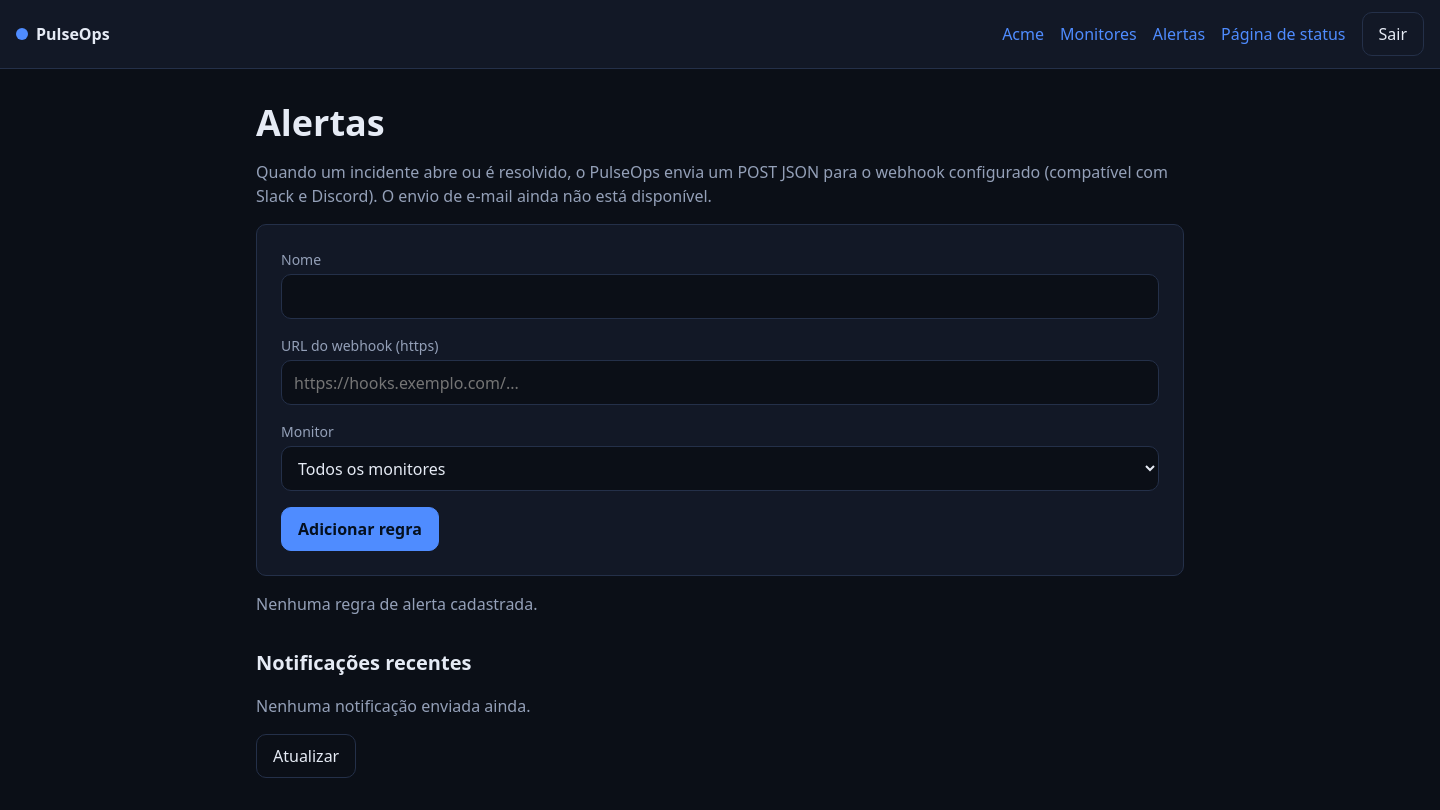
it: páginas de alertas e status › AlertsPage › mostra o segredo de assinatura uma única vez após criar a regra
Type "Slack time" into the field labelled "Nome".
click(720, 296); type("Slack time")  # box [281,274,1159,319]
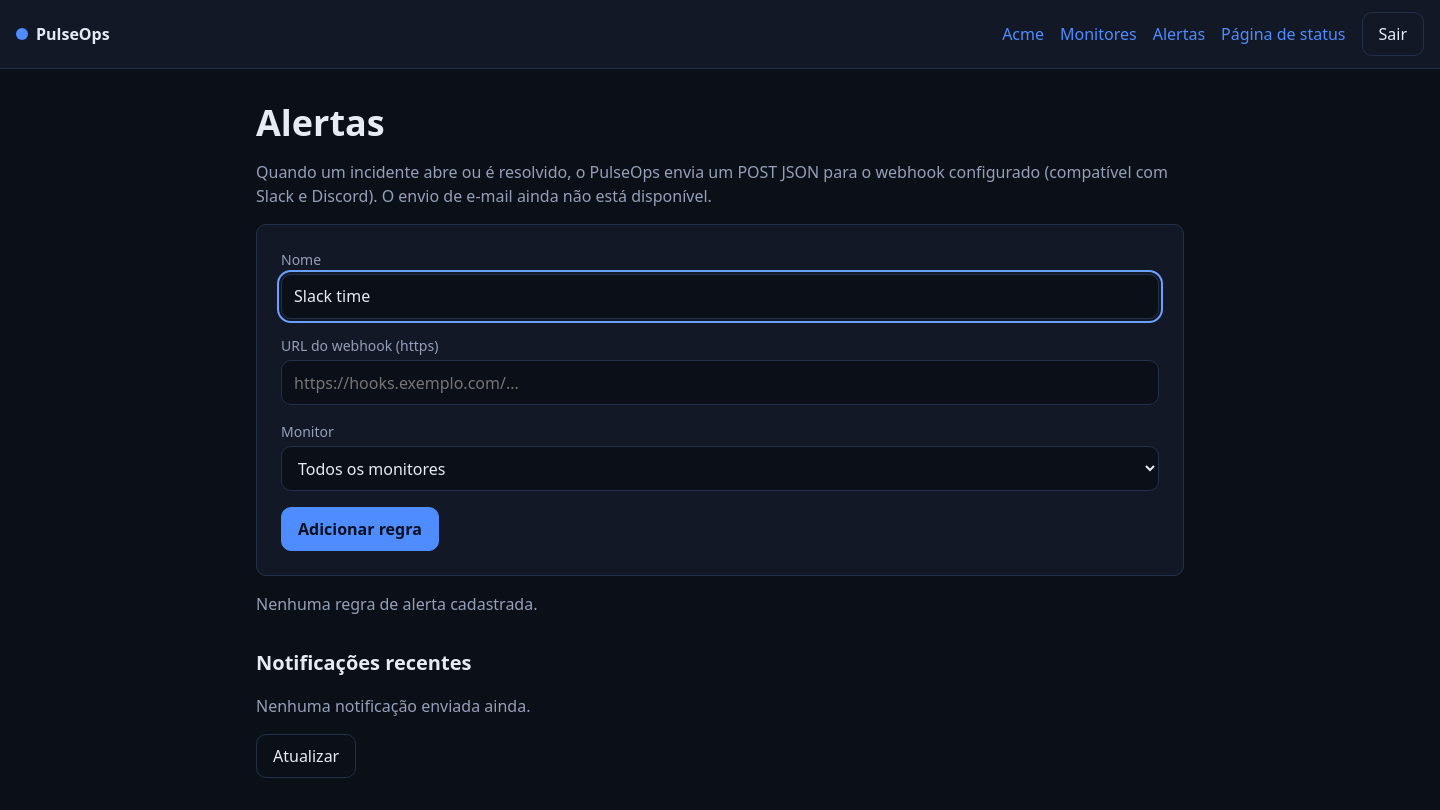
Type "https://hooks.exemplo.com/abc" into the field labelled "URL do webhook (https)".
click(720, 383); type("https://hooks.exemplo.com/abc")  # box [281,360,1159,405]
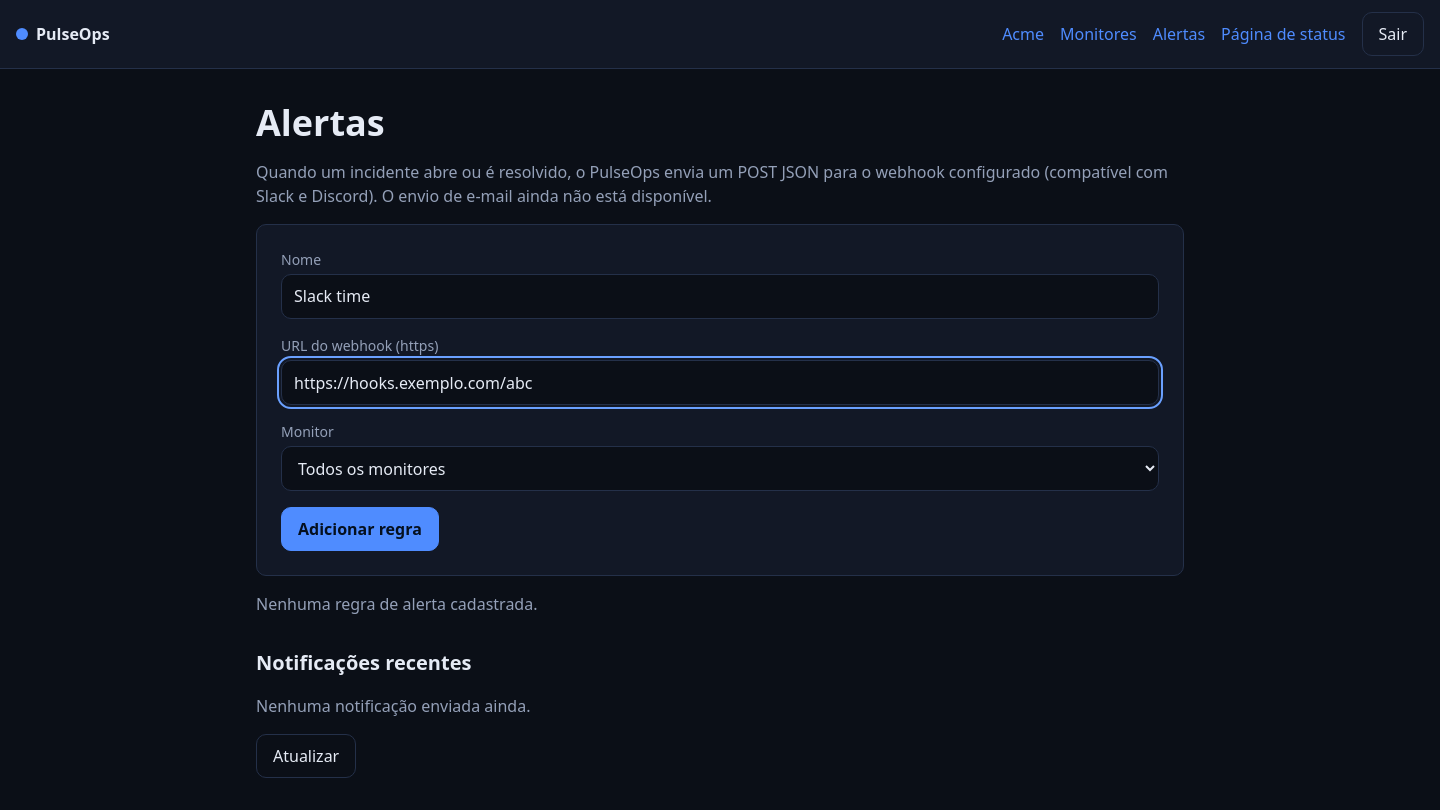
Click the button "Adicionar regra".
click(360, 529)  # box [281,507,439,551]
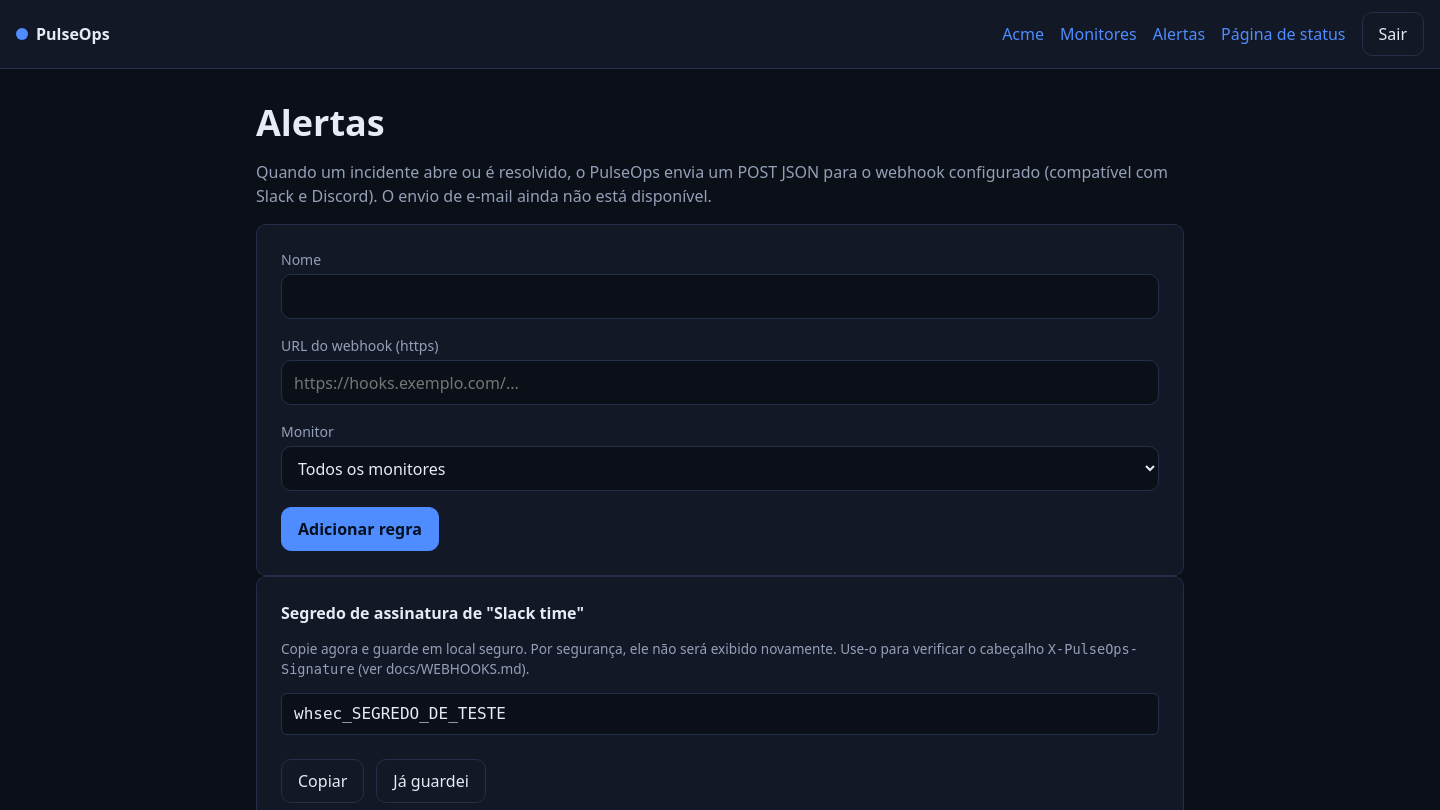
Result: the message "Segredo de assinatura" shows "whsec_SEGREDO_DE_TESTE" at [294,704,506,723]
Result: the message "Segredo de assinatura" shows "não será exibido novamente" at [281,638,1048,658]
Click the button "Já guardei".
click(431, 781)  # box [376,759,486,802]
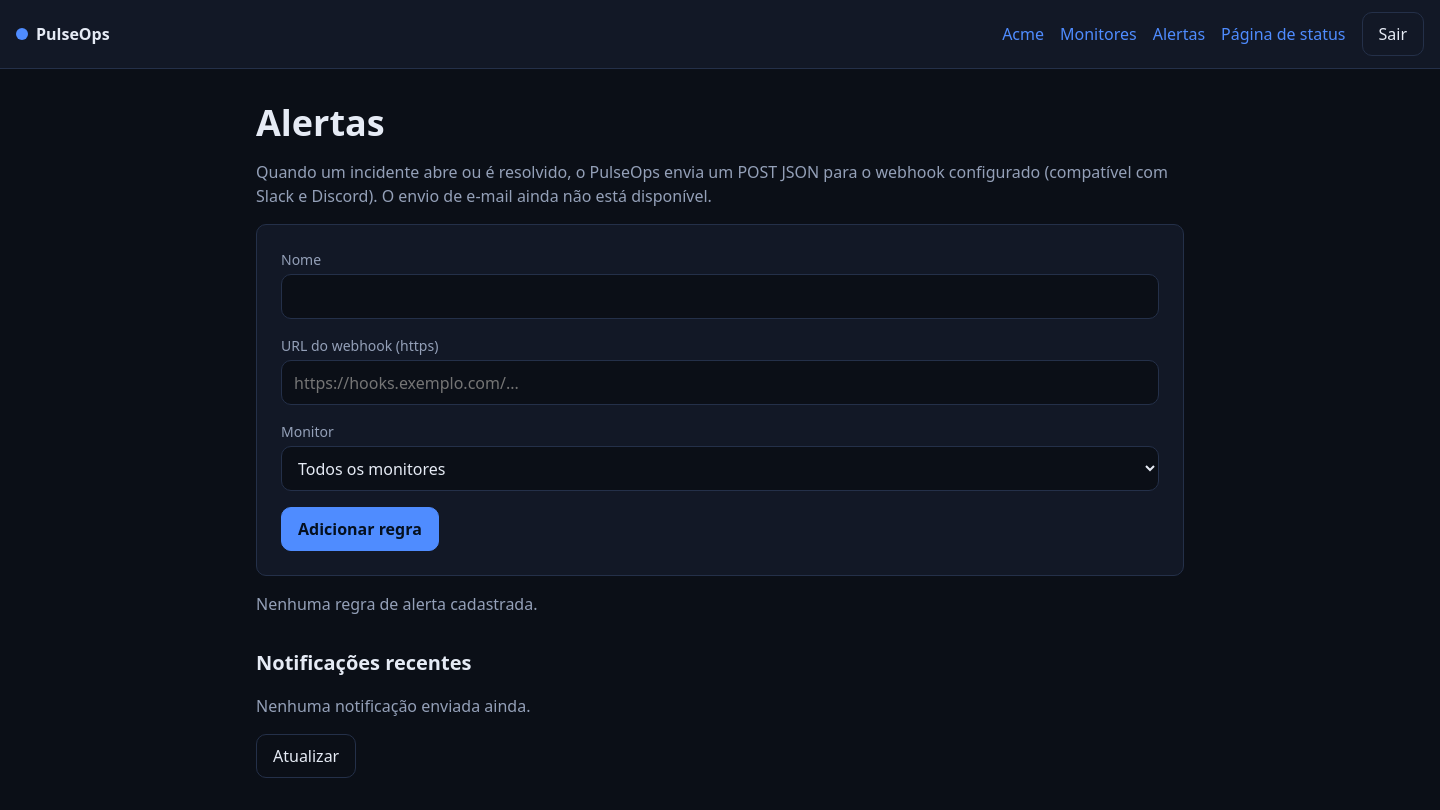
Result: the text "whsec_SEGREDO_DE_TESTE" is gone
